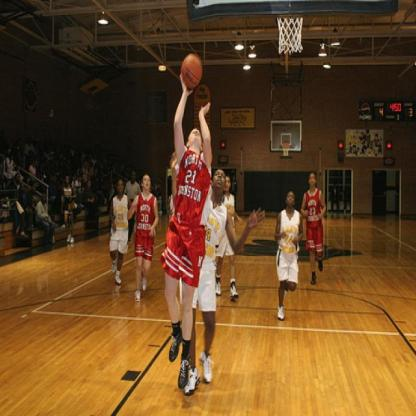basketball: (180, 52, 204, 86)
rim: (280, 140, 291, 147)
